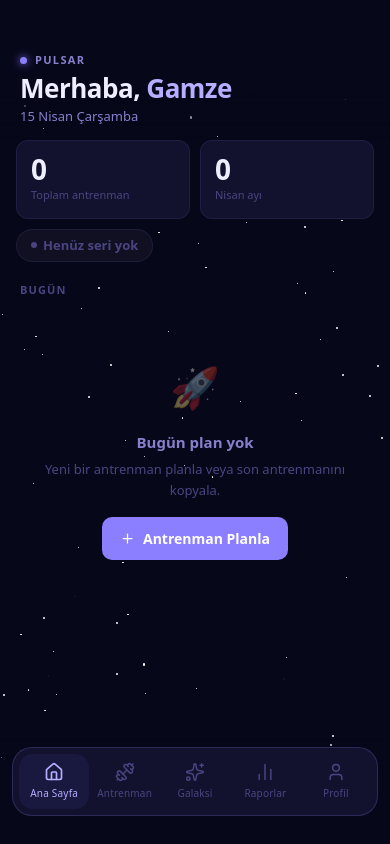
Test case: Antrenman Düzenle & Sil Akışı › Formda Geri butonuna basınca workout listesine döner
What coordinates should you click on to do the following:
click the button with test id "tab-workout"
I would click on:
 (124, 782)
Its box is top-left (89, 754), bottom-right (159, 809).
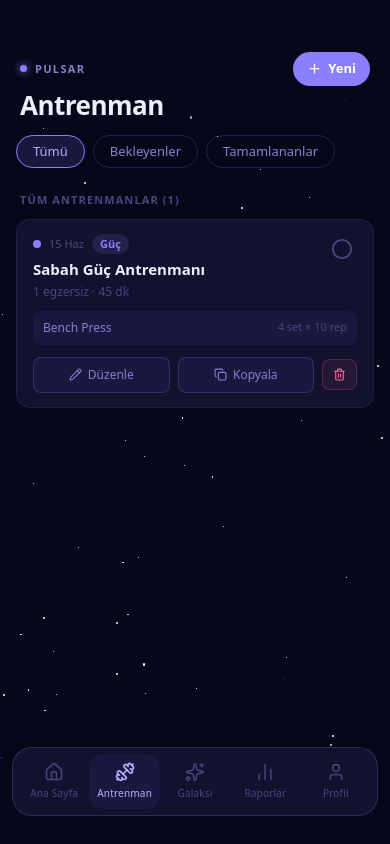
Check: the heading "Antrenman" is shown, box top-left (20, 86), bottom-right (164, 122)
What coordinates should you click on to do the following:
click the button with test id "workout-edit-btn"
I would click on:
 (102, 375)
Its box is top-left (33, 357), bottom-right (170, 393).
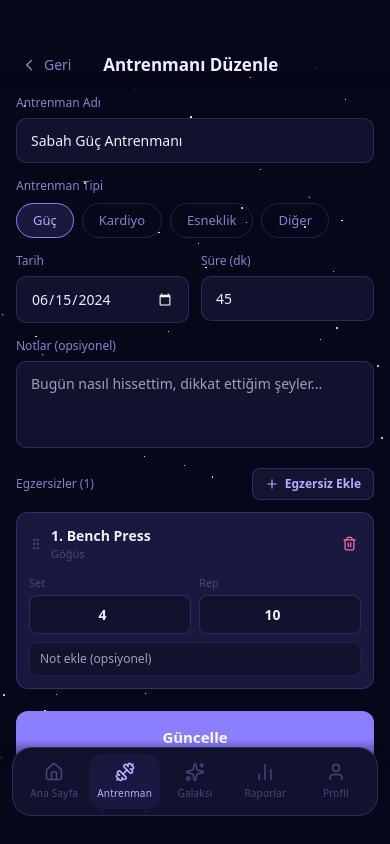
Check: the heading "Antrenmanı Düzenle" is shown, box top-left (103, 52), bottom-right (278, 78)
What coordinates should you click on to do the following:
click the button "Geri"
I would click on:
 (46, 65)
Its box is top-left (20, 54), bottom-right (72, 75).
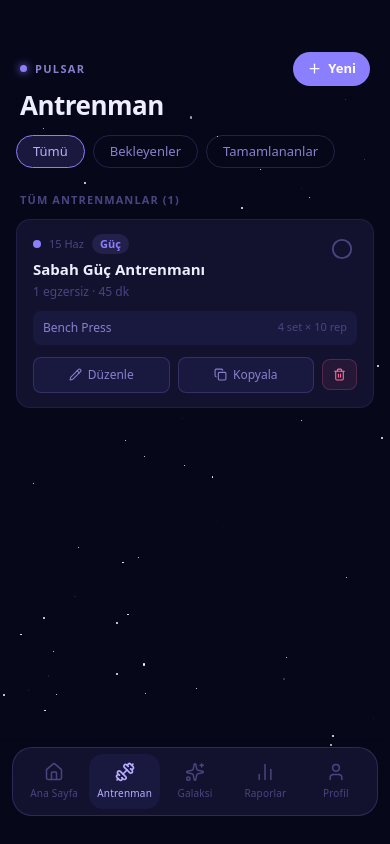
Check: the text "Sabah Güç Antrenmanı" is shown, box top-left (33, 259), bottom-right (205, 279)
Check: the element with test id "workout-card" is shown, box top-left (16, 219), bottom-right (374, 408)
